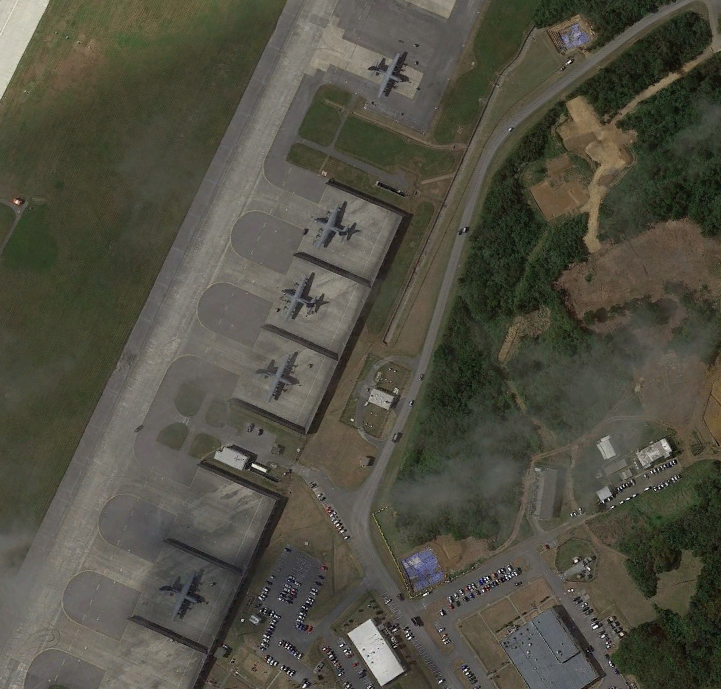A2: (364, 47, 416, 102), (307, 196, 359, 251), (274, 269, 326, 324), (254, 348, 306, 403), (156, 567, 208, 622)
